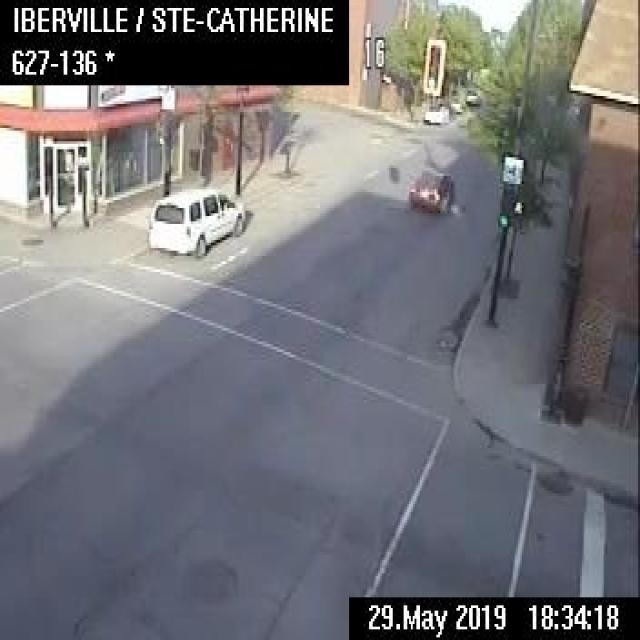vehicle: (146, 184, 245, 253), (407, 168, 452, 211), (422, 101, 448, 123), (465, 87, 480, 103)
